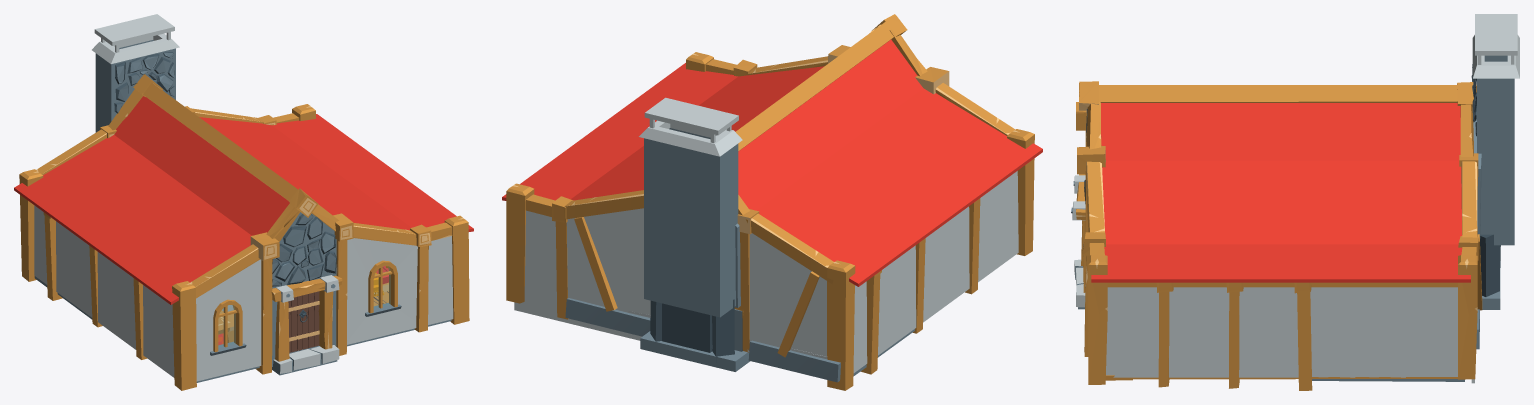
File: wizard_house.fbx
3 renders of one model, left to right at view 1: azimuth 30°, elevation 25°; view 2: azimuth 150°, elevation 25°; view 3: azimuth 270°, elevation 25°, orthographic. The views are drawn at different scales.
Parts seen in each view (by area): view 1: roof_front.002, wood_pillars, walls, door_frame, door.004, windows.002, windows.001; view 2: roof_front.002, walls, wood_pillars, fireplace, rock_floor; view 3: roof_front.002, walls, wood_pillars, fireplace, door_frame, wood_floor, rock_floor.
Boxes of the visible parts, box(x1,y1,x2,y2) form: roof_front.002: box(14, 14, 473, 381); wood_pillars: box(19, 74, 469, 390); walls: box(34, 205, 451, 382); door_frame: box(271, 275, 342, 375); door.004: box(288, 291, 319, 352); windows.002: box(365, 260, 401, 316); windows.001: box(210, 299, 246, 355); roof_front.002: box(502, 14, 1042, 317); walls: box(514, 171, 1018, 382); wood_pillars: box(506, 52, 1034, 390); fireplace: box(650, 223, 743, 362); rock_floor: box(640, 331, 750, 371); roof_front.002: box(1076, 14, 1519, 356); walls: box(1106, 287, 1479, 383); wood_pillars: box(1088, 82, 1482, 390); fireplace: box(1473, 111, 1500, 296); door_frame: box(1071, 174, 1085, 309); wood_floor: box(1105, 375, 1457, 380); rock_floor: box(1312, 261, 1500, 381).
Size of what is drawn, in the model's own units: 2058 by 2180 by 1403.
